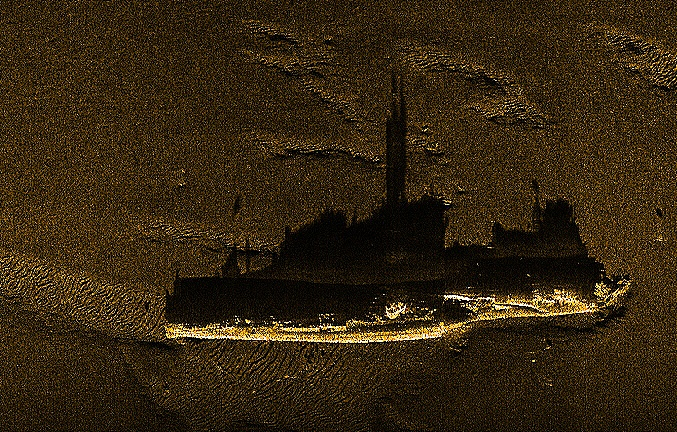ship: (163, 269, 633, 345)
